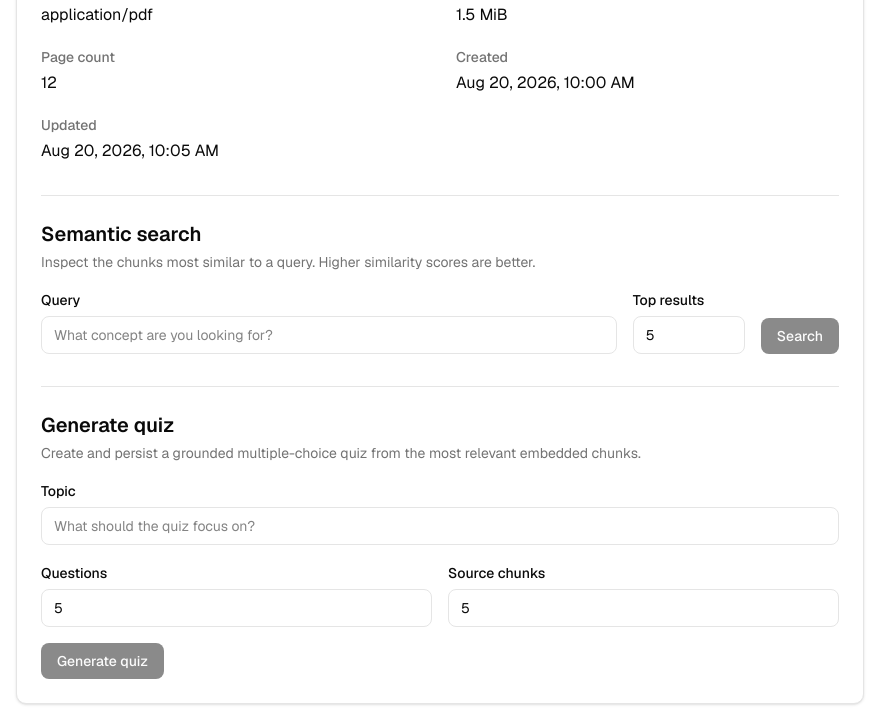
it: DocumentWorkspace › generates a typed quiz and renders a read-only persisted preview
(page scrolled)
Type "  human interfaces  " into the field labelled "Topic" at (440, 526), box left=41, top=507, right=839, bottom=545
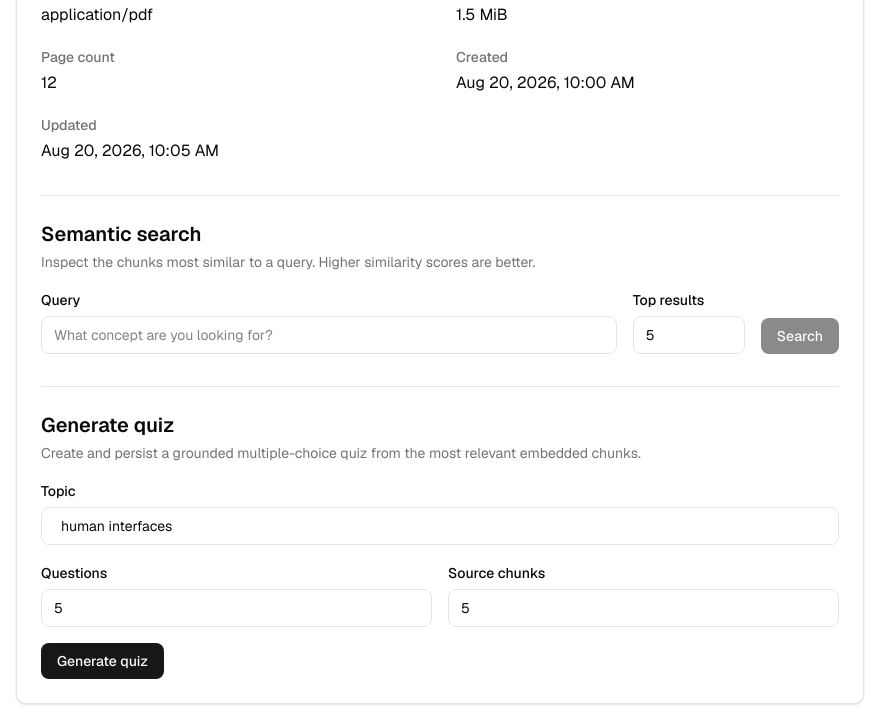
Replace the text in the number field labelled "Questions" with "1" at (236, 608), box left=41, top=589, right=432, bottom=627
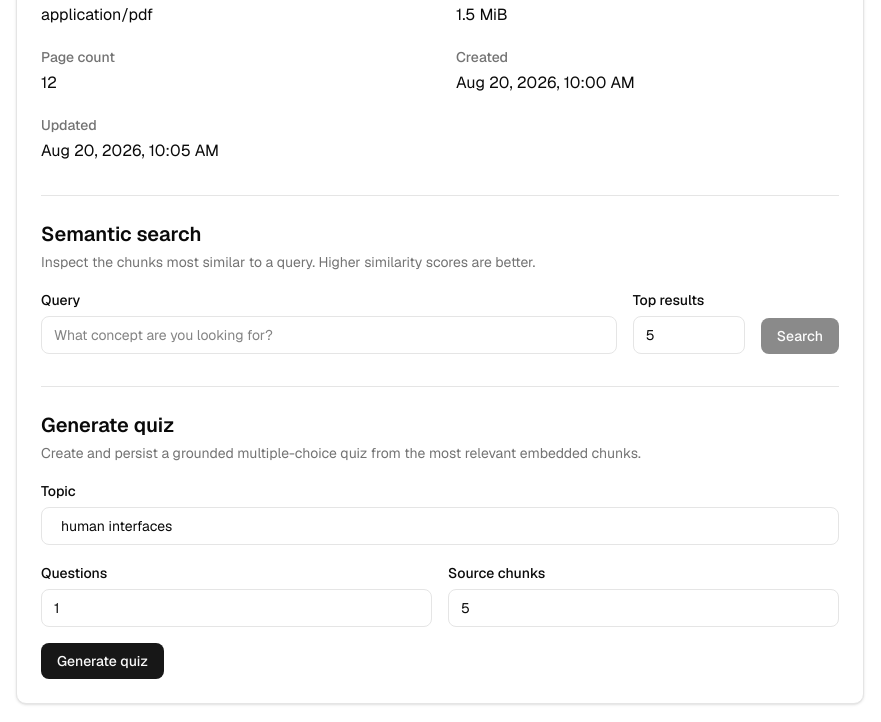
Replace the text in the number field labelled "Source chunks" with "7" at (644, 608), box left=448, top=589, right=839, bottom=627
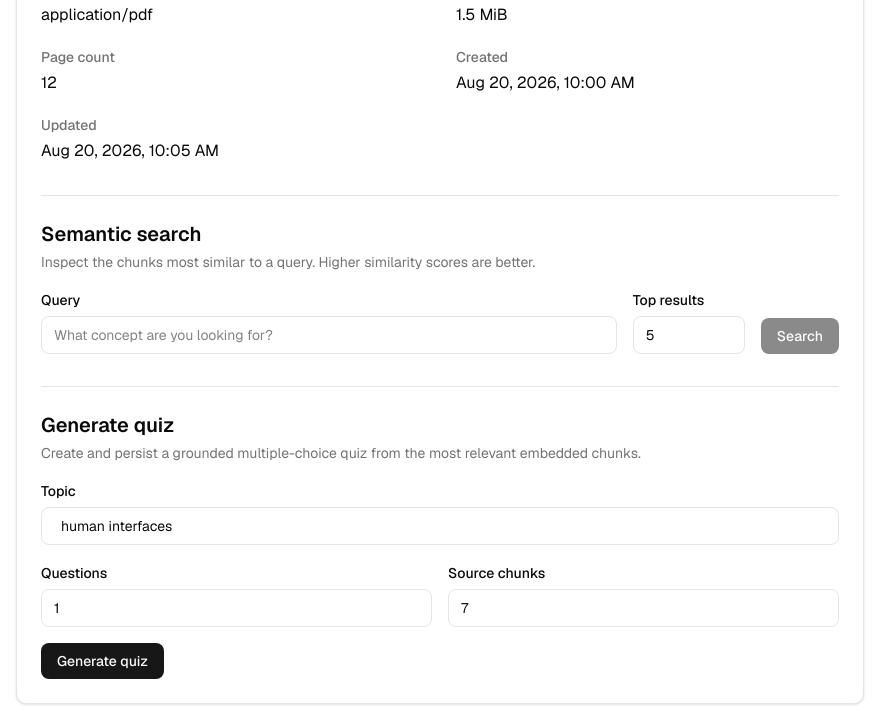
Click the button "Generate quiz" at (102, 661), box left=41, top=643, right=164, bottom=679
(page scrolled)
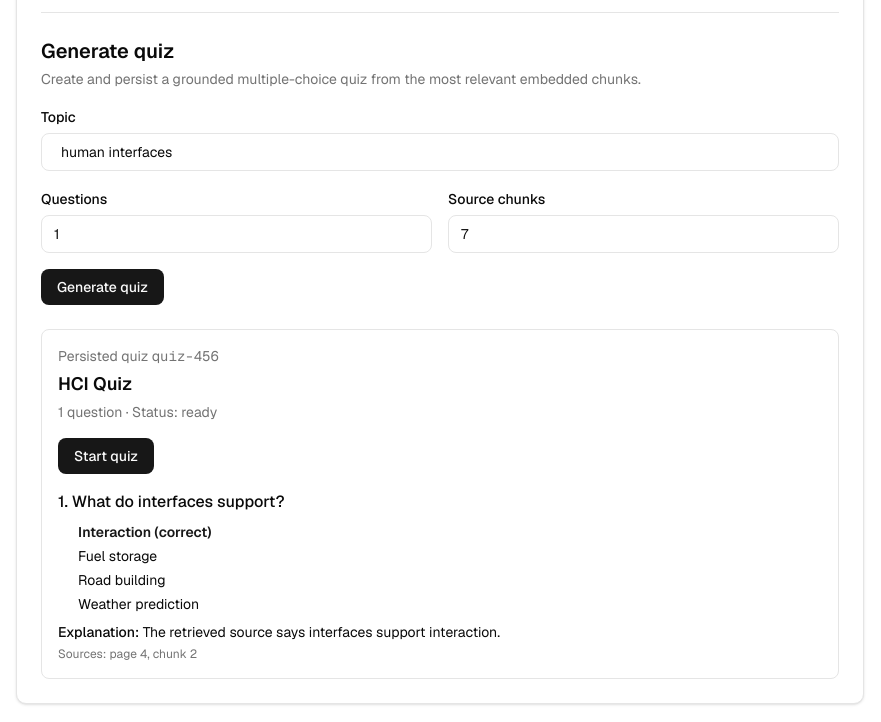
expect the heading "HCI Quiz" is shown: met, box left=58, top=372, right=132, bottom=395
expect the text "Persisted quiz quiz-456" is shown: met, box left=58, top=347, right=219, bottom=365
expect the list item "Interaction (correct)" is shown: met, box left=78, top=523, right=212, bottom=541
